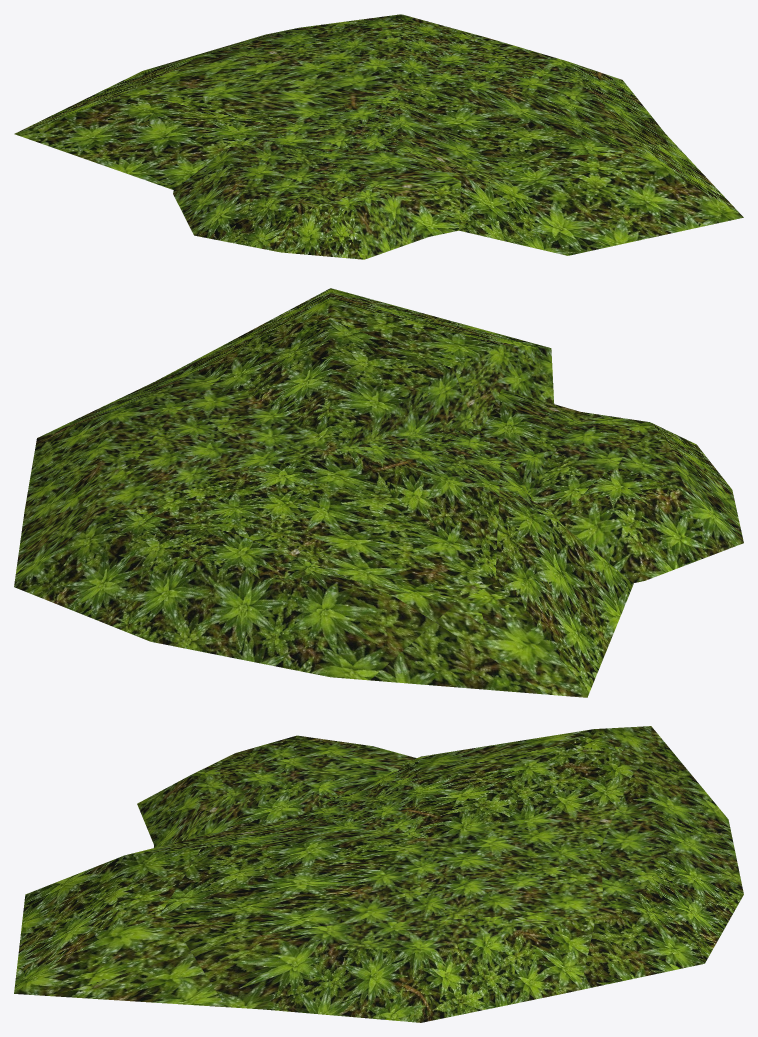
The model's file is veg_starmoss.glb.
3 renders of one model, top to bottom at view 1: azimuth 30°, elevation 25°; view 2: azimuth 150°, elevation 25°; view 3: azimuth 270°, elevation 25°, orthographic. The views are drawn at different scales.
Visible parts, largest first — view 1: veg_starmoss; view 2: veg_starmoss; view 3: veg_starmoss.
Boxes of the visible parts, bbox=[...] form: veg_starmoss: bbox=[14, 14, 743, 259]; veg_starmoss: bbox=[14, 288, 743, 697]; veg_starmoss: bbox=[14, 726, 743, 1022].
Size of the model in its own units: 1.05 by 0.09 by 1.09.
1 material, 1 textured.
